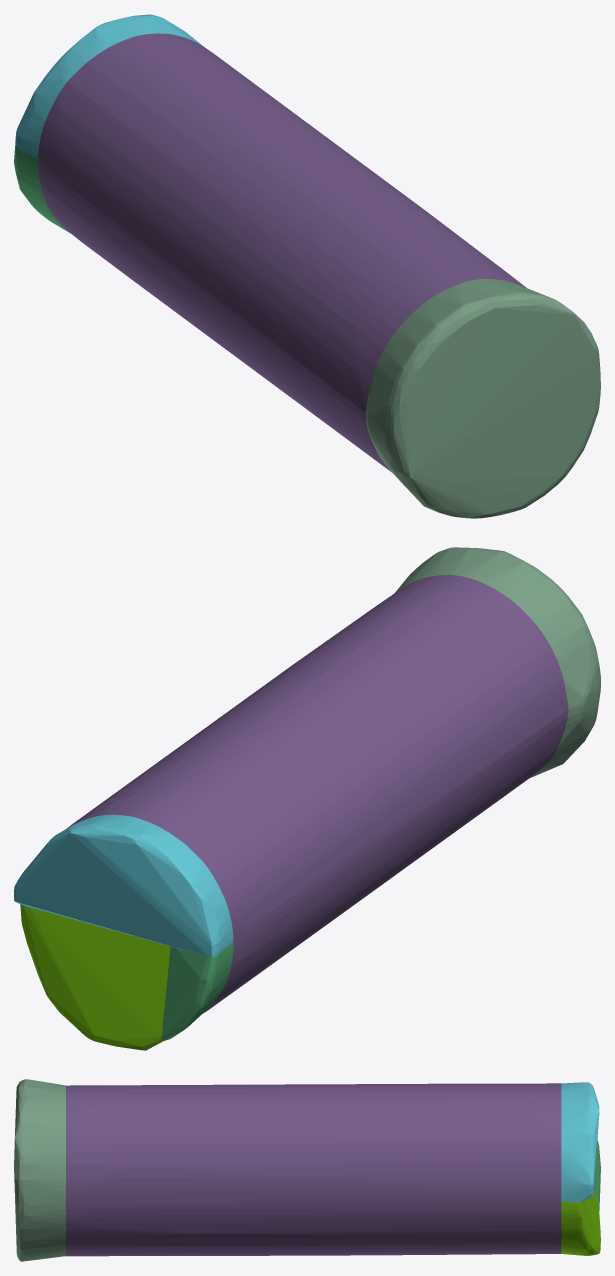
The model's file is coacd_collision.obj.
The picture shows the model from 3 angles, top to bottom: view 1: azimuth 30°, elevation 25°; view 2: azimuth 150°, elevation 25°; view 3: azimuth 270°, elevation 25°; orthographic projection. The views are drawn at different scales.
Parts seen in each view (by area): view 1: geometry_1, geometry_0, geometry_2, geometry_3; view 2: geometry_1, geometry_2, geometry_4, geometry_0, geometry_3; view 3: geometry_1, geometry_0, geometry_2, geometry_4, geometry_3.
Boxes of the visible parts, box(x1,y1,x2,y2) form: geometry_1: box(38, 33, 526, 472); geometry_0: box(366, 279, 600, 518); geometry_2: box(15, 14, 203, 159); geometry_3: box(14, 144, 70, 233); geometry_1: box(68, 575, 568, 1013); geometry_2: box(14, 814, 233, 957); geometry_4: box(20, 904, 170, 1050); geometry_0: box(395, 547, 600, 777); geometry_3: box(161, 941, 233, 1040); geometry_1: box(66, 1083, 561, 1256); geometry_0: box(14, 1079, 65, 1261); geometry_2: box(561, 1082, 599, 1201); geometry_4: box(561, 1188, 600, 1255); geometry_3: box(594, 1140, 600, 1210).
Bounding box in the file's own units: 73.93 × 73.1 × 237.
